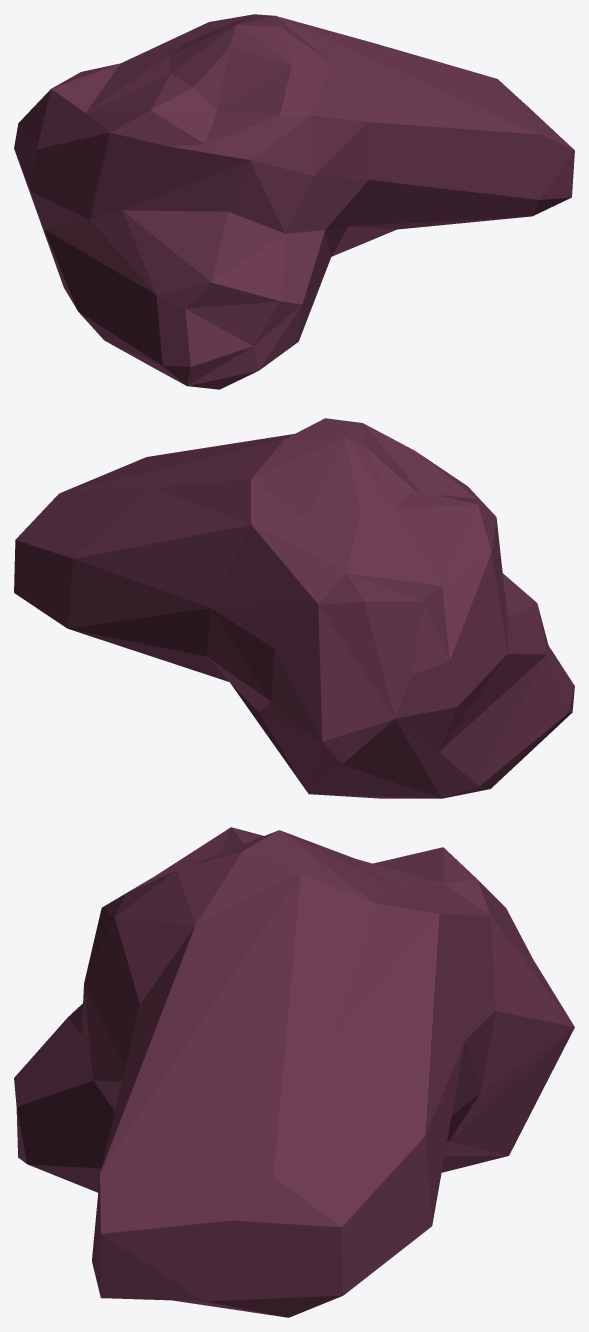
The model's file is asteroid4.fbx.
The picture shows the model from 3 angles, top to bottom: view 1: azimuth 30°, elevation 25°; view 2: azimuth 150°, elevation 25°; view 3: azimuth 270°, elevation 25°; orthographic projection. The views are drawn at different scales.
Parts seen in each view (by area): view 1: Asteroid4; view 2: Asteroid4; view 3: Asteroid4.
Part boxes in pixels (x1=…): Asteroid4: x1=14, y1=14, x2=574, y2=389; Asteroid4: x1=14, y1=418, x2=574, y2=798; Asteroid4: x1=14, y1=827, x2=574, y2=1317.
Size of the model in its own units: 344 by 217 by 271.
